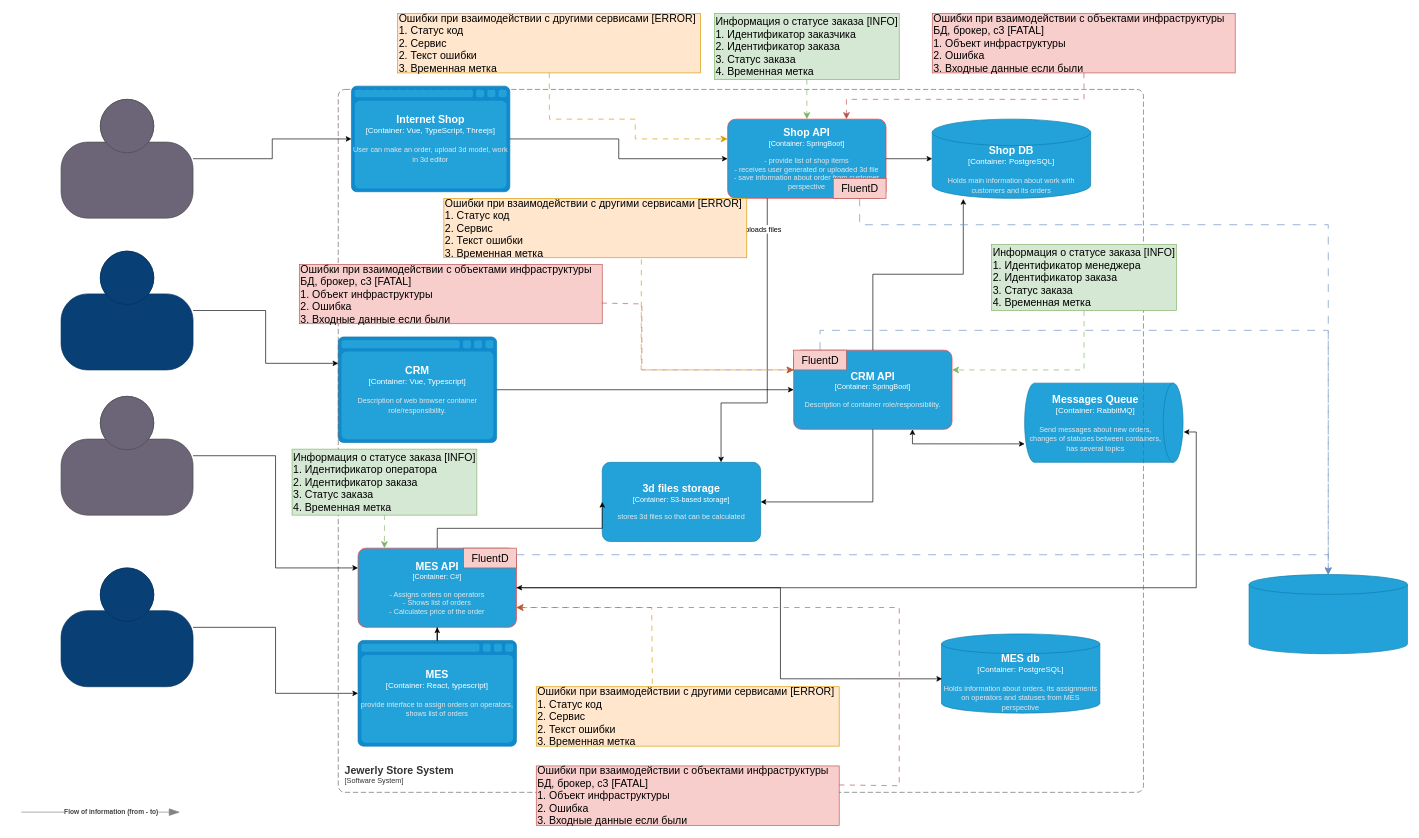
The diagram is 1419 pixels wide and 838 high, and some of its shapes have lost their labels. Each missing label, with the centre of its shape:
"API user [Person] Description of external person." belongs at [126,455].
"Clickhouse [Container: ] Holds logs" belongs at [1327,614].
"Customer [Person] Description of external person." belongs at [126,158].
"Operator [Person] Takes order in work, manufactures jewerly" belongs at [126,627].
"Seller [Person] Operates with order, confirms manufacturing for the user" belongs at [126,310].
